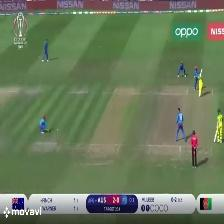ball: (54, 125, 61, 134)
